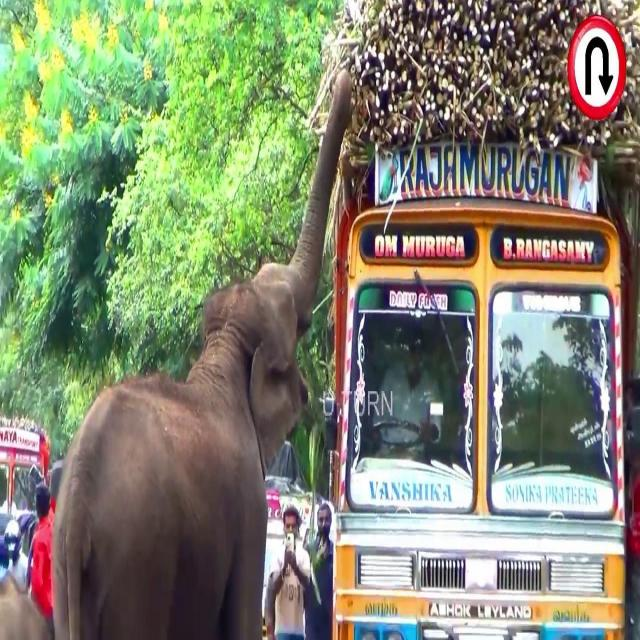Elephant: (51, 69, 353, 632)
